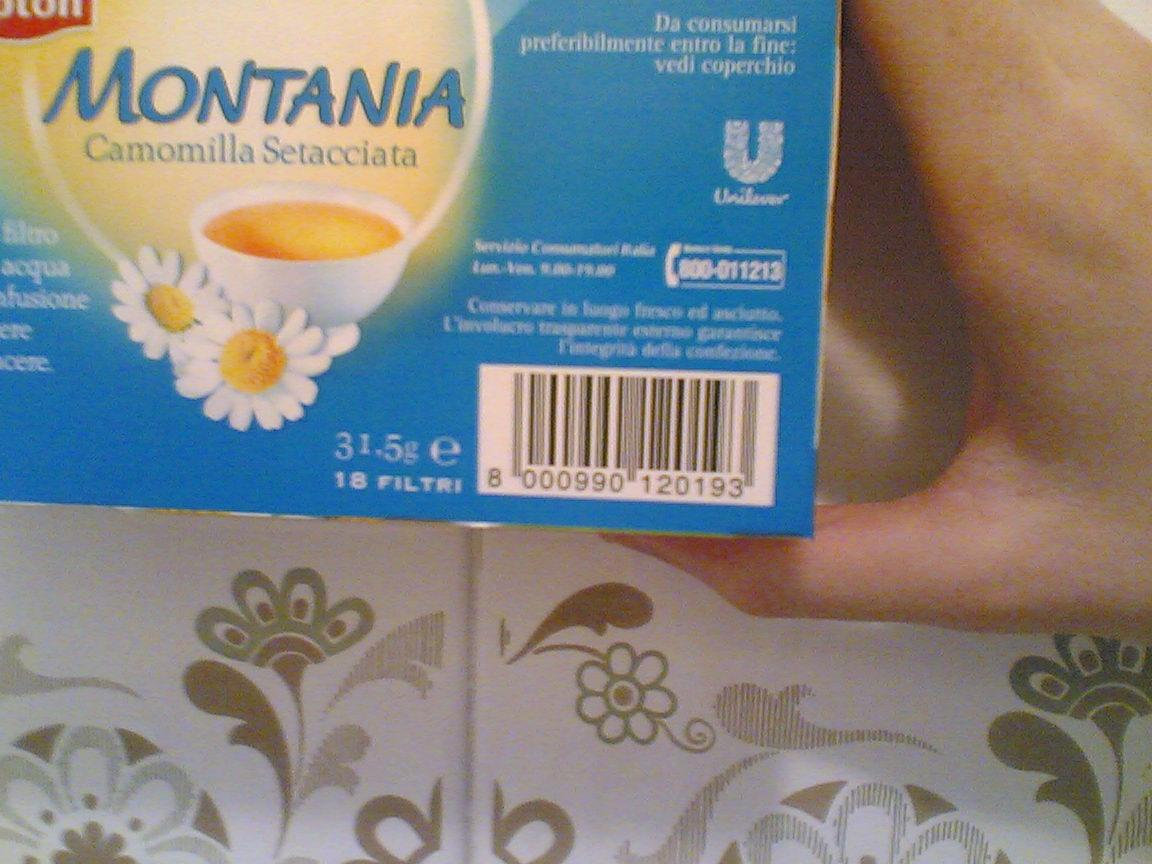Barcode: (475, 361, 780, 512)
